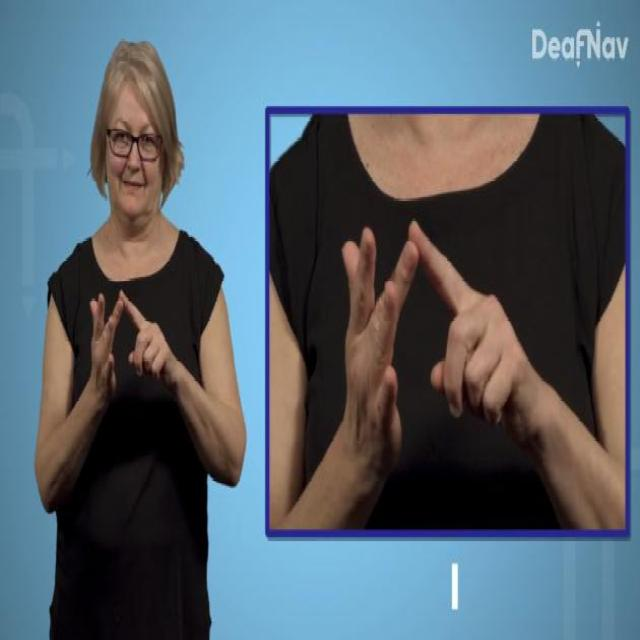I: (336, 215, 529, 472), (90, 289, 172, 403)
